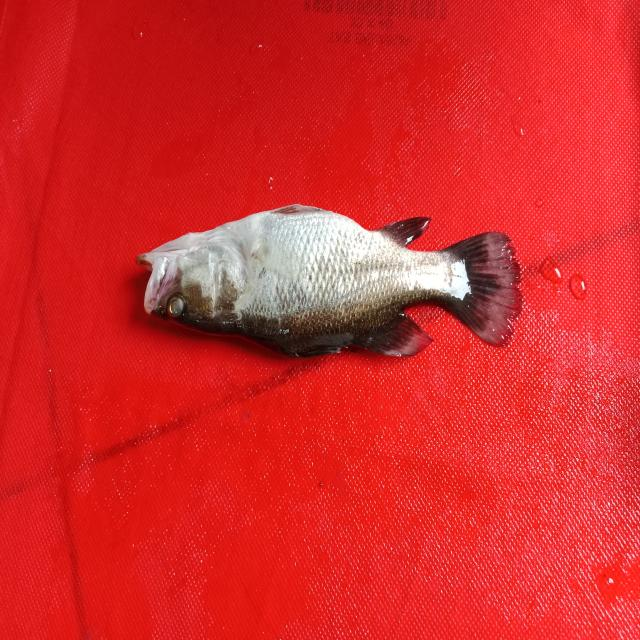ikan: (121, 192, 530, 370)
